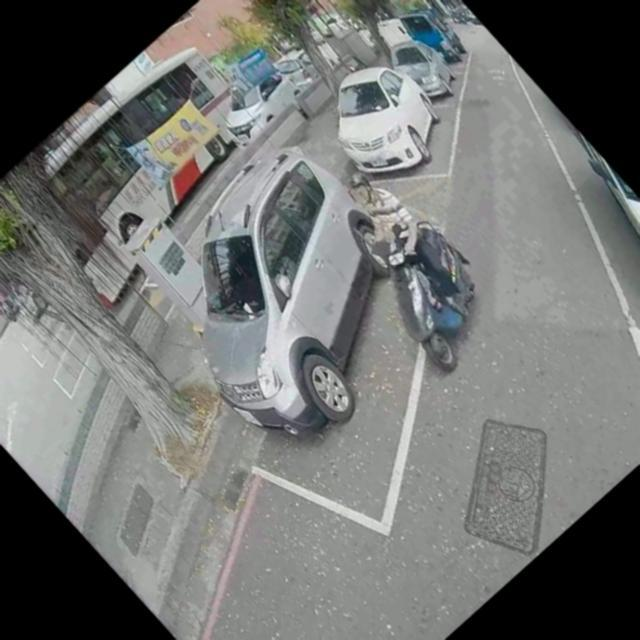person: (312, 152, 488, 336), (0, 277, 20, 319)
